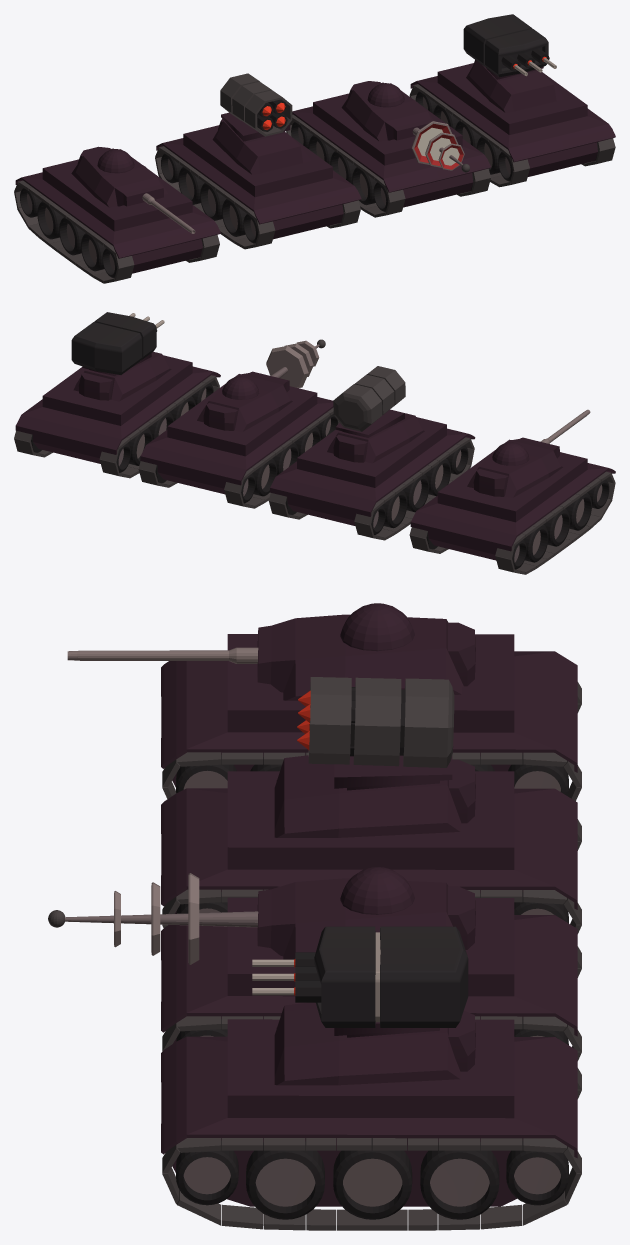
File: robotmaintank.fbx
3 views of the same model, one above another, from view 1: azimuth 30°, elevation 25°; view 2: azimuth 150°, elevation 25°; view 3: azimuth 270°, elevation 25° (orthographic). The views are drawn at different scales.
Parts seen in each view (by area): view 1: Cube.010, Cube.018, Cube.006, Cube.014, Cube.019, Turret.004, Turret, Turret.001, Turret.002, Cube.003, Cylinder.025, Cube.007 (+28 smaller); view 2: Cube.006, Cube.014, Cube.010, Cube.018, Cube.019, Cylinder.025, Turret, Turret.002, Turret.004, Cube.003, Cube.007, Turret.001 (+29 smaller); view 3: Cube.018, Cube.010, Cube.006, Cube.014, Cube.019, Turret.004, Cube.016, Cylinder.025, Turret.001, Turret, Turret.002, Cylinder.056 (+20 smaller).
Part boxes in pixels (x1,y1,x2,y2): Cube.010: [156, 125, 361, 224]; Cube.018: [410, 63, 615, 162]; Cube.006: [15, 149, 220, 258]; Cube.014: [292, 83, 490, 192]; Cube.019: [463, 14, 548, 77]; Turret.004: [212, 112, 310, 174]; Turret: [71, 148, 168, 207]; Turret.001: [466, 60, 564, 112]; Turret.002: [341, 82, 433, 141]; Cube.003: [14, 180, 134, 283]; Cylinder.025: [220, 73, 292, 136]; Cube.007: [155, 146, 275, 249]; Cube.006: [410, 439, 615, 551]; Cube.014: [140, 374, 333, 485]; Cube.010: [270, 417, 475, 516]; Cube.018: [15, 355, 220, 454]; Cube.019: [71, 312, 156, 374]; Cylinder.025: [333, 366, 405, 431]; Turret: [467, 437, 562, 497]; Turret.002: [197, 371, 292, 431]; Turret.004: [327, 409, 424, 463]; Cube.003: [495, 471, 615, 574]; Cube.007: [354, 437, 474, 540]; Turret.001: [73, 351, 171, 401]; Cube.018: [161, 1019, 577, 1158]; Cube.010: [161, 771, 577, 909]; Cube.006: [161, 634, 577, 772]; Cube.014: [161, 897, 577, 1036]; Cube.019: [314, 926, 468, 1027]; Turret.004: [274, 755, 461, 837]; Cube.016: [162, 1138, 581, 1230]; Cylinder.025: [308, 677, 454, 767]; Turret.001: [274, 1002, 460, 1085]; Turret: [257, 614, 463, 700]; Turret.002: [257, 878, 452, 959]; Cylinder.056: [333, 1138, 412, 1219].
Bounding box in the file's own units: 7.78 × 1.85 × 3.61.
